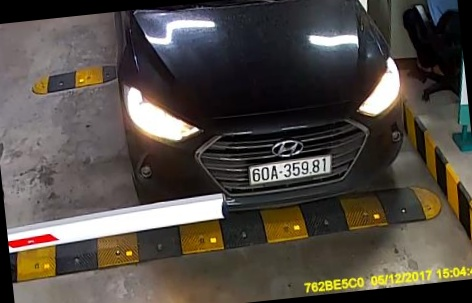plate: (245, 156, 338, 183)
